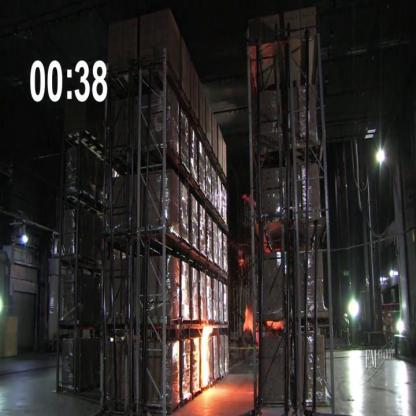fire: (200, 324, 214, 392)
